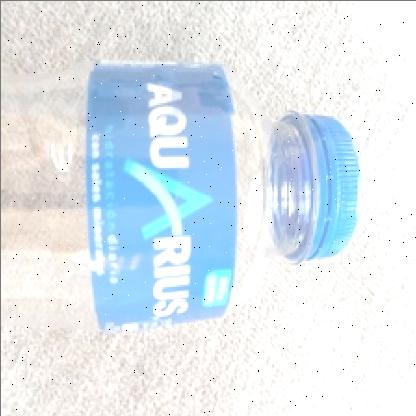Plastic Bottle: (0, 58, 360, 334)
